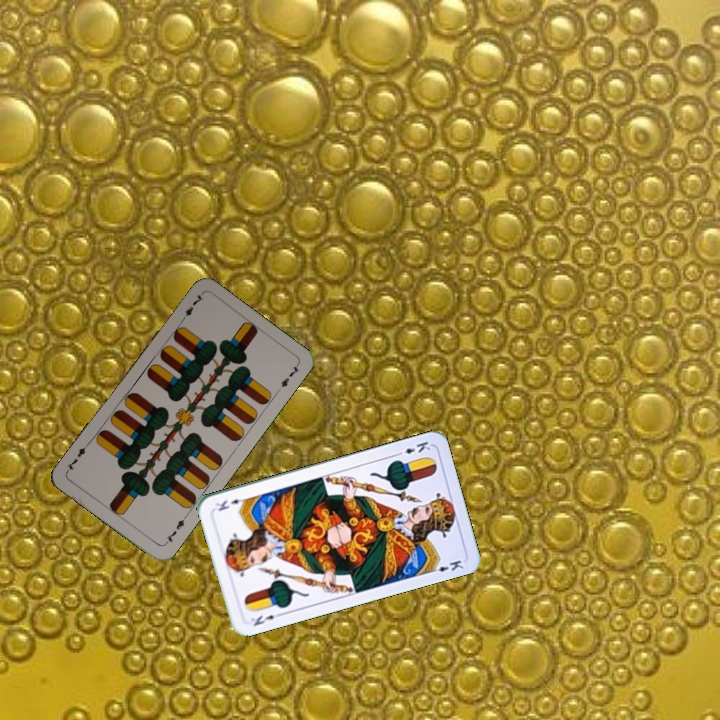E7: (176, 290, 206, 325), (161, 512, 189, 548)
EK: (392, 437, 433, 458), (247, 609, 284, 629)
